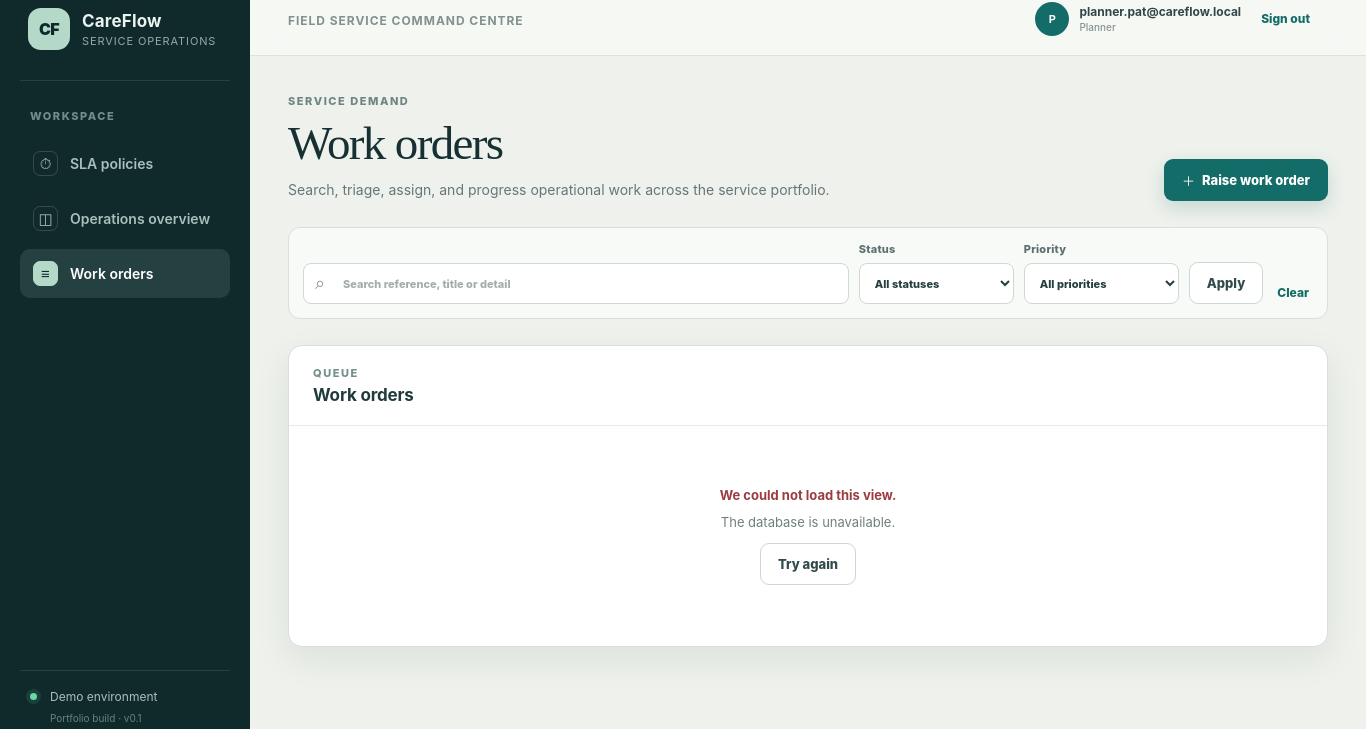
Test: Work orders list (MSW) › shows the API error and recovers when the user retries
Check: the text "We could not load this view." is shown, box x1=720 y1=487 x2=896 y2=503
Check: the text "The database is unavailable." is shown, box x1=721 y1=513 x2=895 y2=533
Click the button "Try again". click: (808, 564)
box: x1=760 y1=543 x2=856 y2=585
(page scrolled)
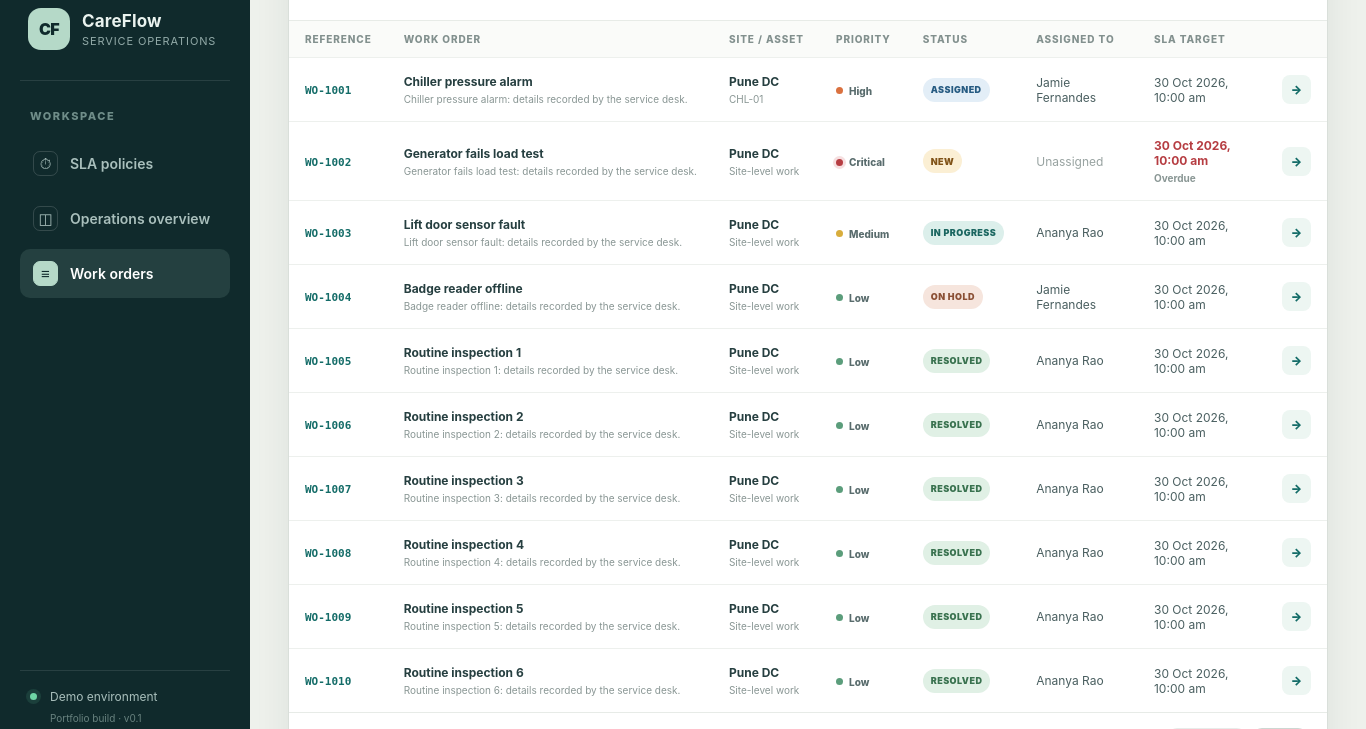
Check: the table is shown
Check: the text "We could not load this view." is gone
